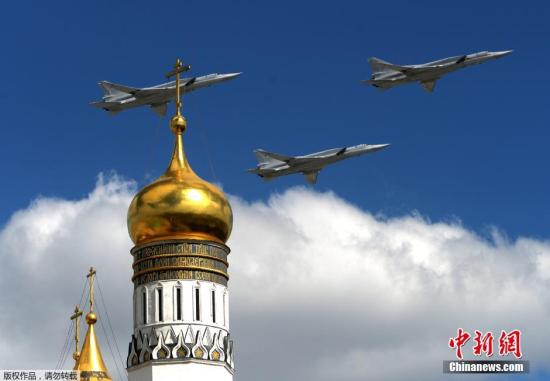airplane: (89, 61, 240, 123), (246, 139, 393, 186), (362, 48, 513, 92)
